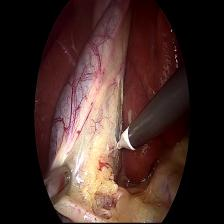Grasper: (41, 163, 75, 210)
Hook: (114, 124, 137, 158)
